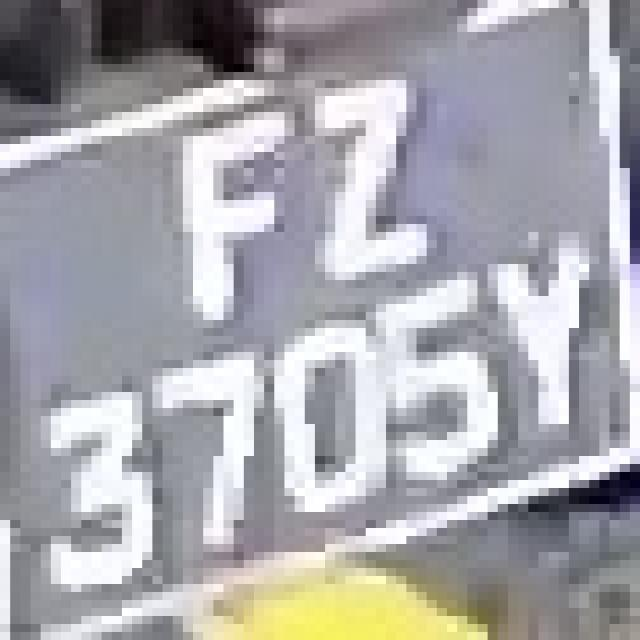0: (264, 312, 386, 536)
3: (31, 376, 172, 592)
5: (356, 272, 498, 480)
7: (152, 352, 254, 544)
F: (152, 104, 305, 328)
Y: (468, 200, 610, 464)
Z: (274, 72, 437, 288)
